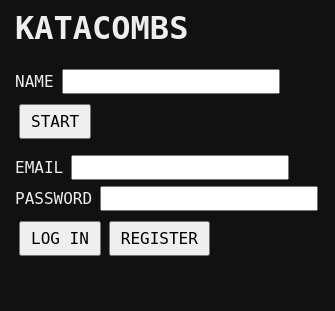
Test: the start screen › WEB-MSG-2: a refusal without a JSON message shows SOMETHING WENT WRONG.
This screenshot has width=335, height=311.
Type "ana" into the field labelled "NAME" at (170, 81), box top-left (62, 69), bottom-right (280, 94)
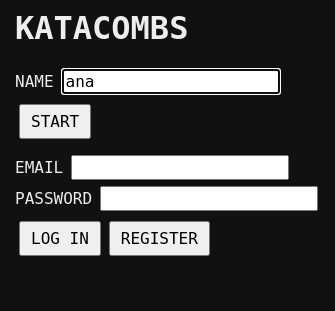
Click the button "START" at (55, 121), box top-left (19, 104), bottom-right (91, 139)
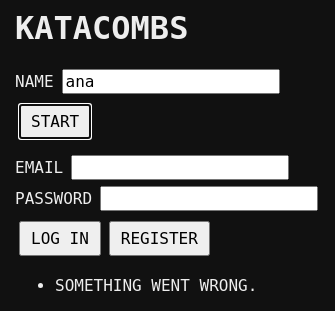
Expected: the list item "SOMETHING WENT WRONG." is shown, top-left (55, 276), bottom-right (257, 295)
